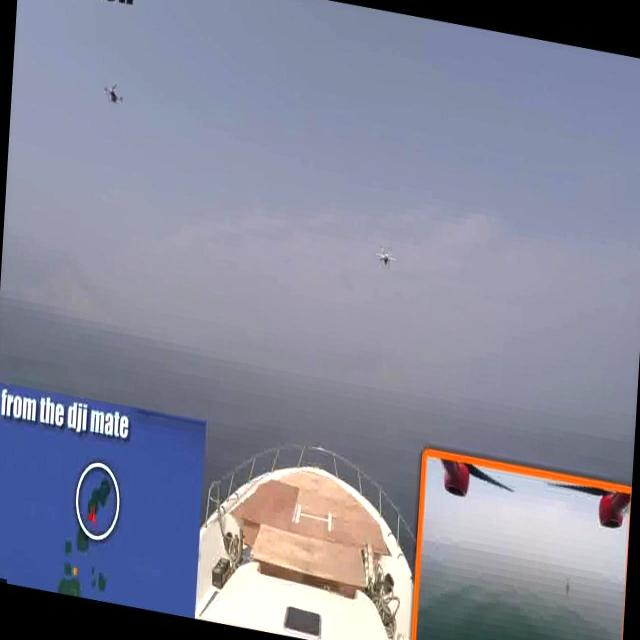drone: (372, 238, 402, 276), (99, 76, 128, 109)
